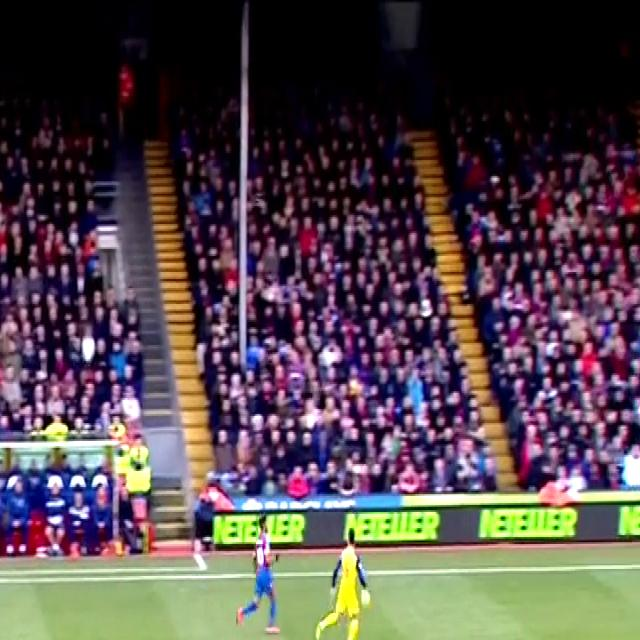ball: (358, 575, 374, 613)
soccer-player: (234, 528, 292, 638), (314, 530, 359, 640)
